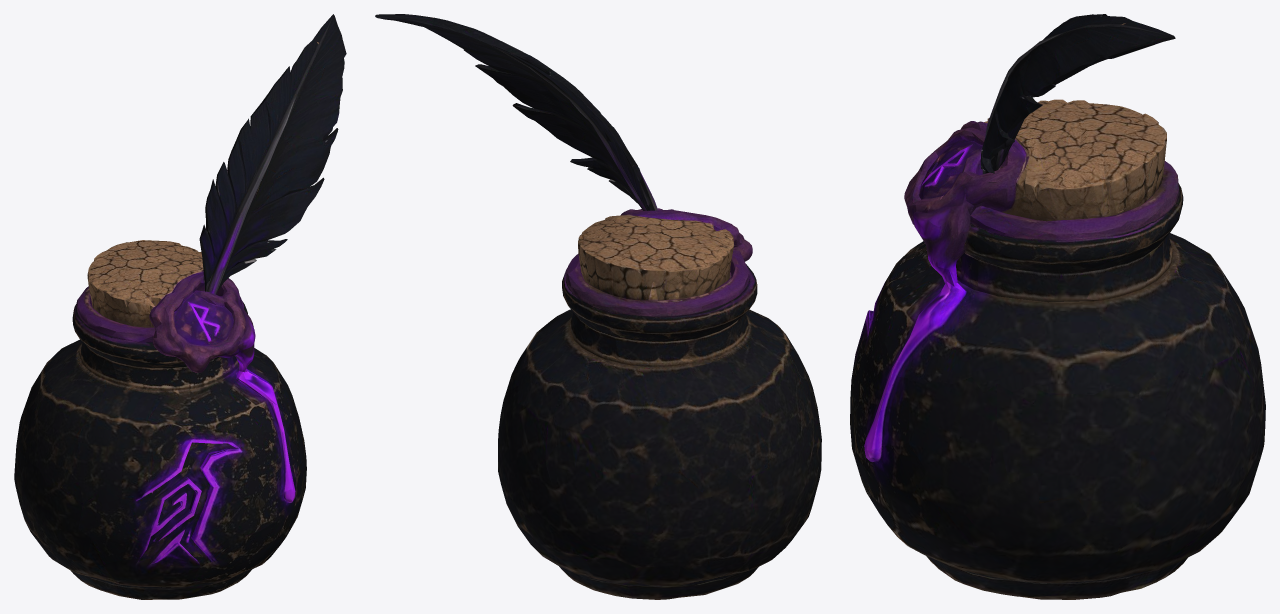
Rendered from GoodsInk.fbx.
The picture shows the model from 3 angles, left to right: view 1: azimuth 30°, elevation 25°; view 2: azimuth 150°, elevation 25°; view 3: azimuth 270°, elevation 25°; orthographic projection. The views are drawn at different scales.
Parts seen in each view (by area): view 1: output_unwrapped; view 2: output_unwrapped; view 3: output_unwrapped.
Part boxes in pixels (x1,y1,x2,y2): output_unwrapped: [14, 14, 346, 599]; output_unwrapped: [375, 14, 821, 599]; output_unwrapped: [850, 14, 1265, 599].
Bounding box in the file's own units: 146 × 190 × 109.
1 material, 1 textured.
